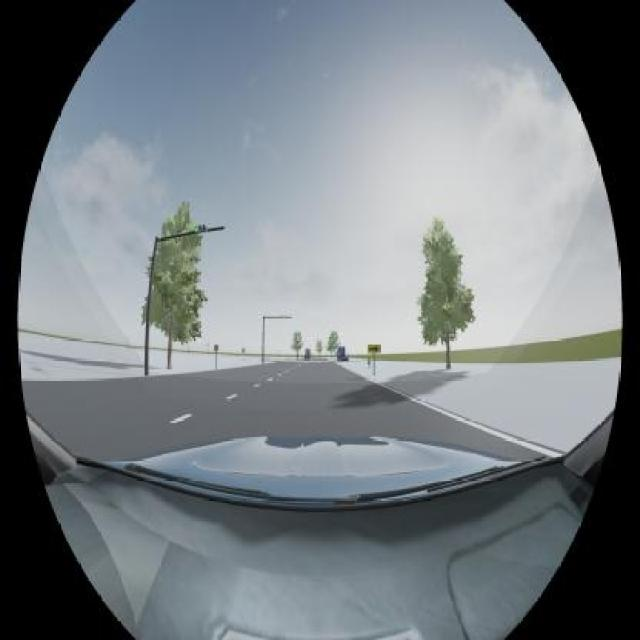forb_speed_over_30: (214, 344, 218, 351)
